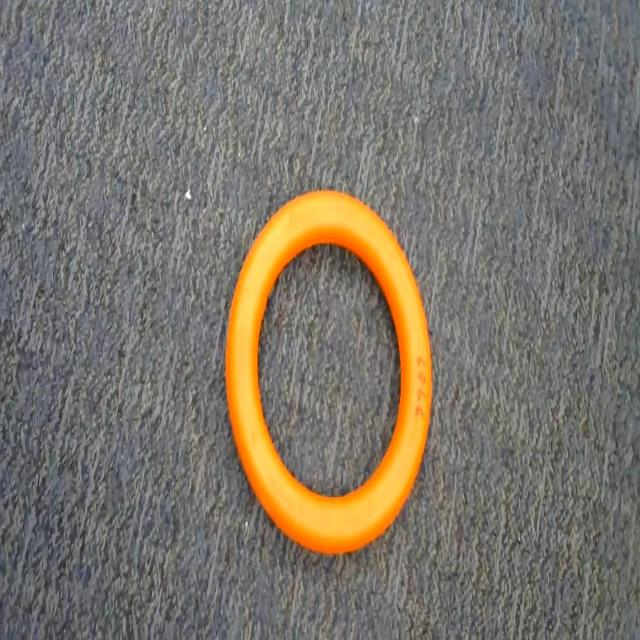note: (198, 173, 469, 567)
